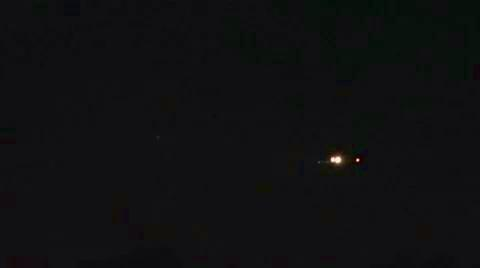Plane: (298, 130, 390, 184)
